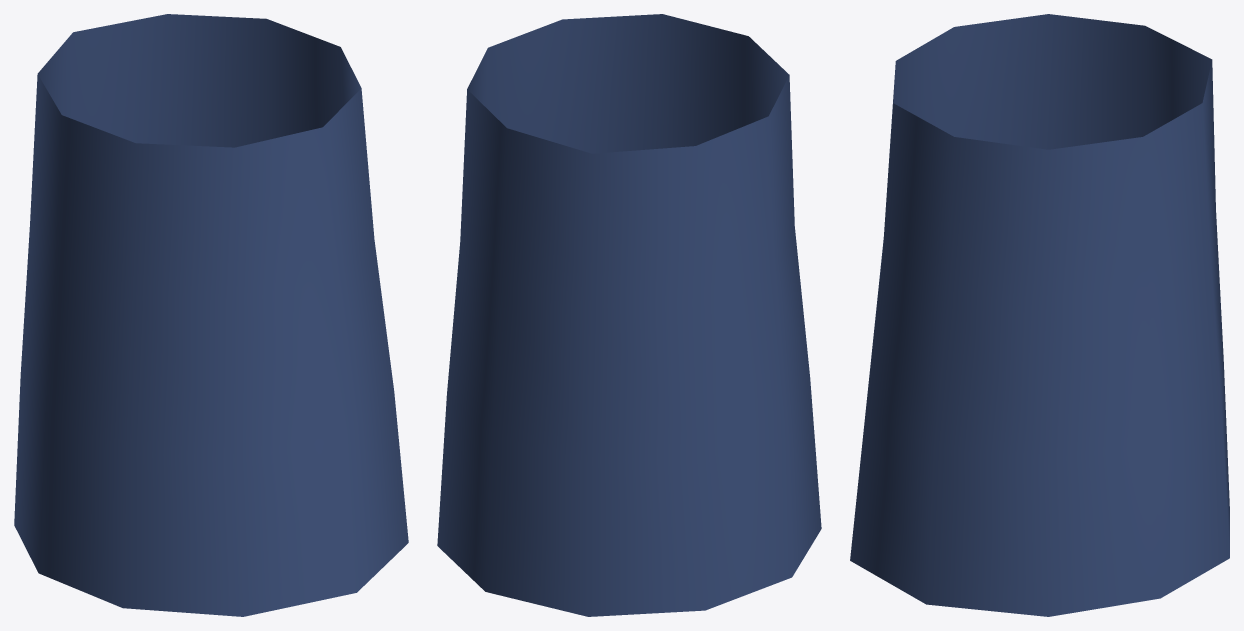
File: spectre_armor_bracer.R.glb
3 renders of one model, left to right at view 1: azimuth 30°, elevation 25°; view 2: azimuth 150°, elevation 25°; view 3: azimuth 270°, elevation 25°, orthographic.
Visible parts, largest first — view 1: spectre_armor_bracer.R; view 2: spectre_armor_bracer.R; view 3: spectre_armor_bracer.R.
Part boxes in pixels (box(x1,y1,x2,y2)): spectre_armor_bracer.R: box(14, 14, 408, 616); spectre_armor_bracer.R: box(437, 14, 821, 616); spectre_armor_bracer.R: box(850, 14, 1229, 616).
Bounding box in the file's own units: 0.1208 × 0.1562 × 0.1192.
